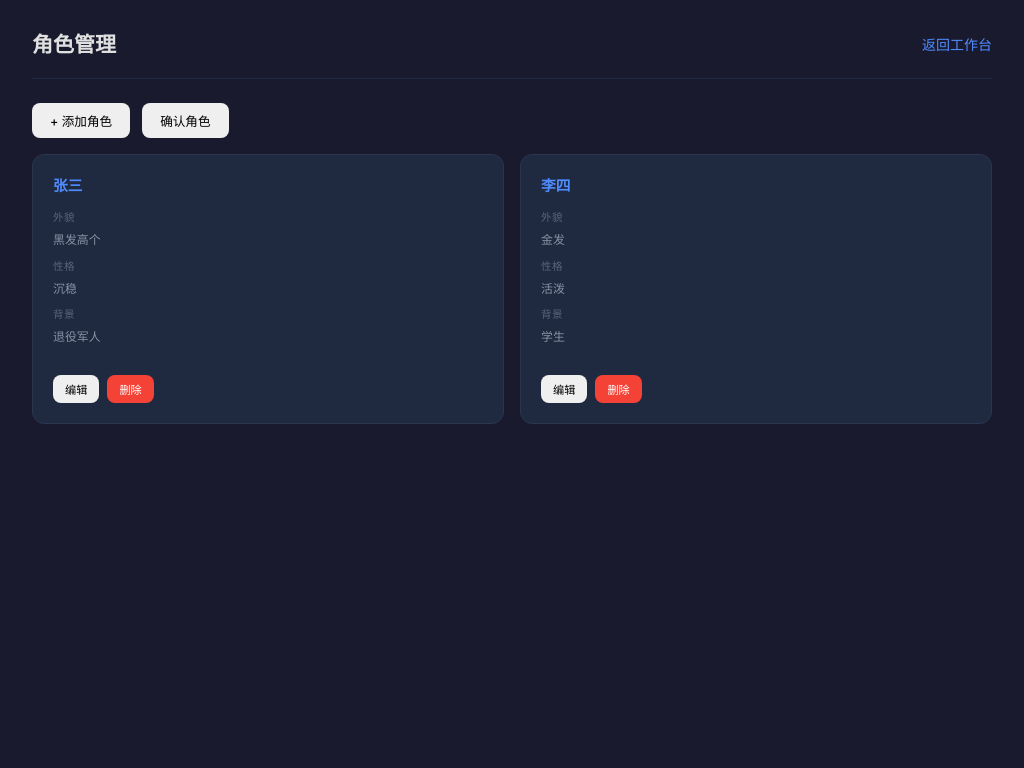
Test: CharacterManagePage › 取消编辑恢复显示模式
The width and height of the screenshot is (1024, 768).
expect the heading "张三" is shown: met, box [53,177,82,195]
Click the button with aria-label "编辑 张三": (76, 389) [53,375,99,403]
(page scrolled)
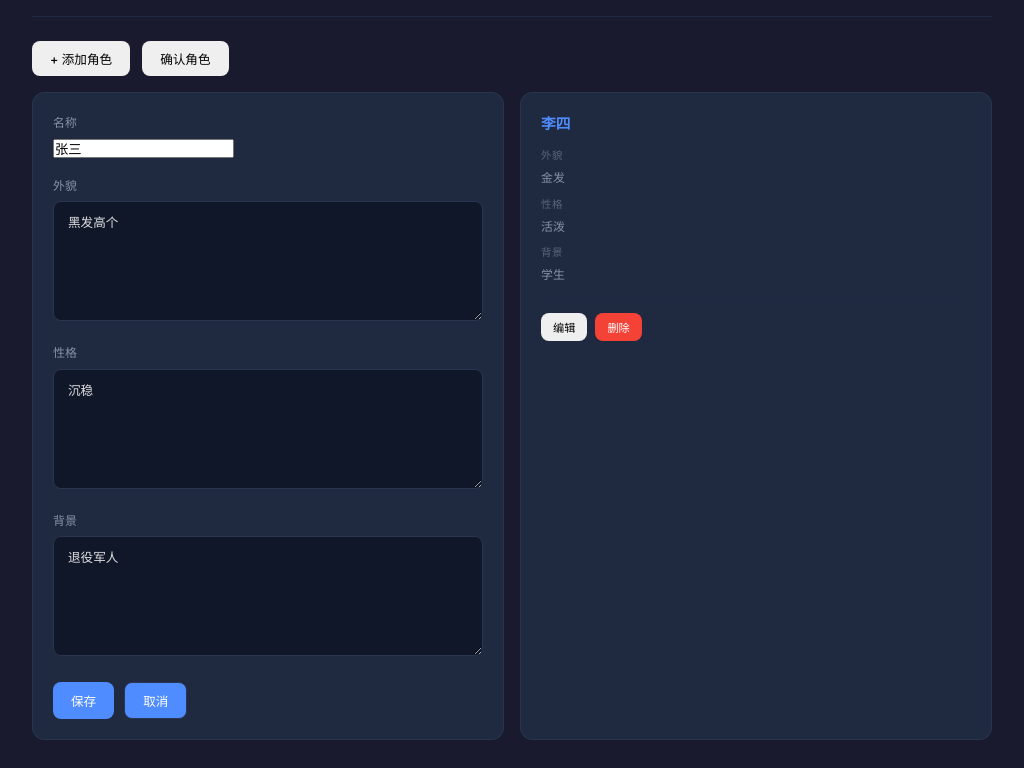
expect the field labelled "名称" is shown: met, box [53,139,234,158]
Click the button "取消": (156, 701) [124,682,187,719]
(page scrolled)
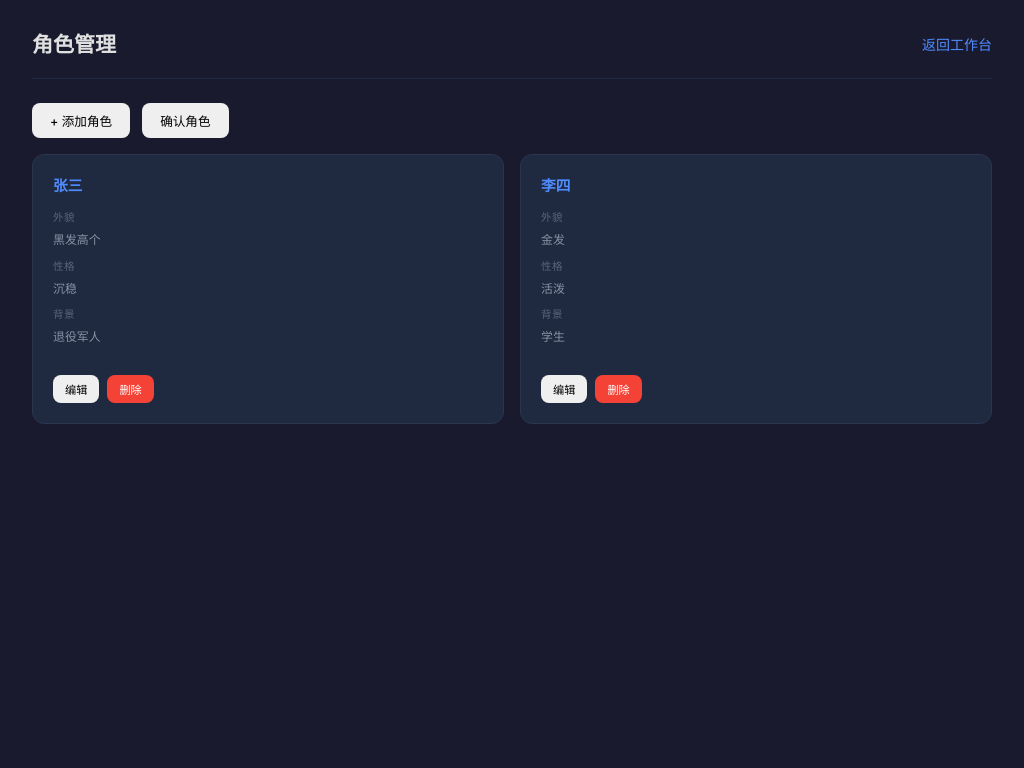
expect the label labelled "名称" is gone: met
